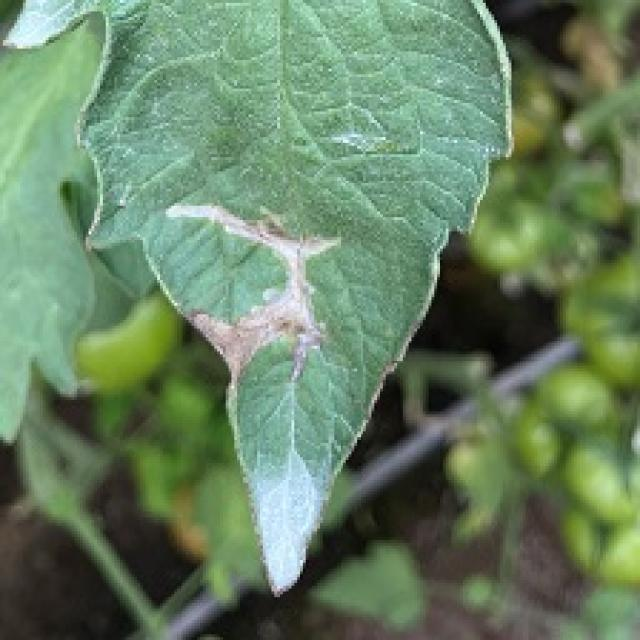Tuta absoluta: (166, 206, 334, 383)
